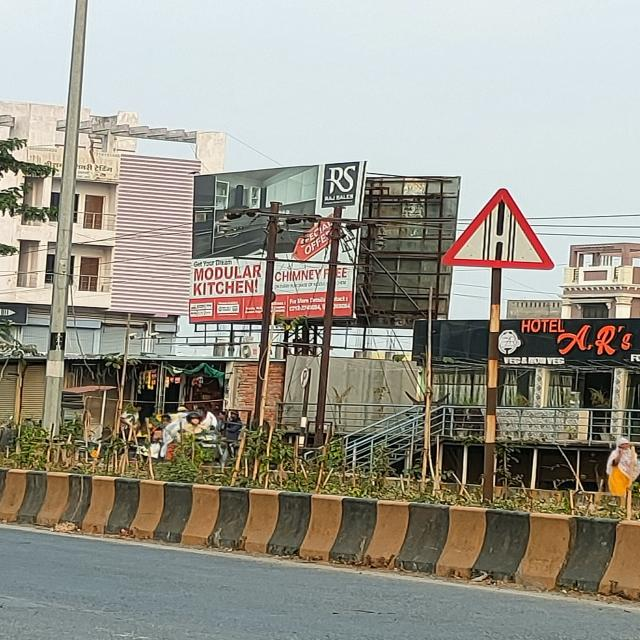ferry: (437, 190, 559, 272)
